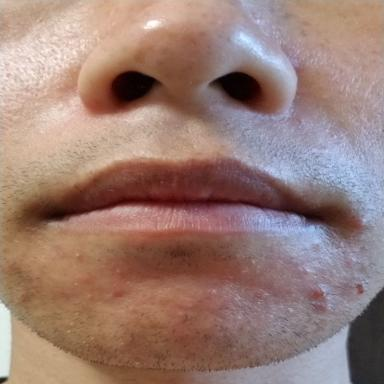acne: (78, 274, 94, 283), (113, 288, 125, 298), (310, 291, 323, 299), (315, 305, 327, 313), (357, 217, 365, 225)
